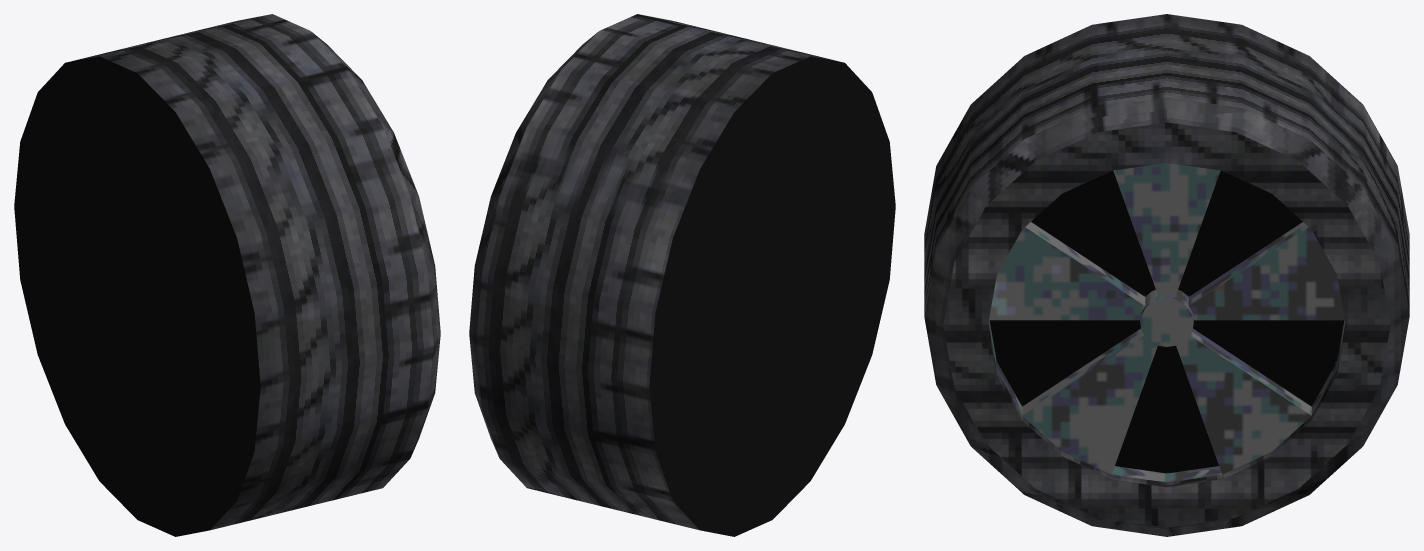
Rendered from Wheel.glb.
3 renders of one model, left to right at view 1: azimuth 30°, elevation 25°; view 2: azimuth 150°, elevation 25°; view 3: azimuth 270°, elevation 25°, orthographic.
Visible parts, largest first — view 1: pCylinder1; view 2: pCylinder1; view 3: pCylinder1.
Boxes of the visible parts, x1=… form: pCylinder1: x1=14, y1=14, x2=440, y2=536; pCylinder1: x1=469, y1=14, x2=895, y2=536; pCylinder1: x1=924, y1=14, x2=1409, y2=536.
Bounding box in the file's own units: 0.5 × 1.13 × 1.13.
Materials: 1 (1 with a texture image).
